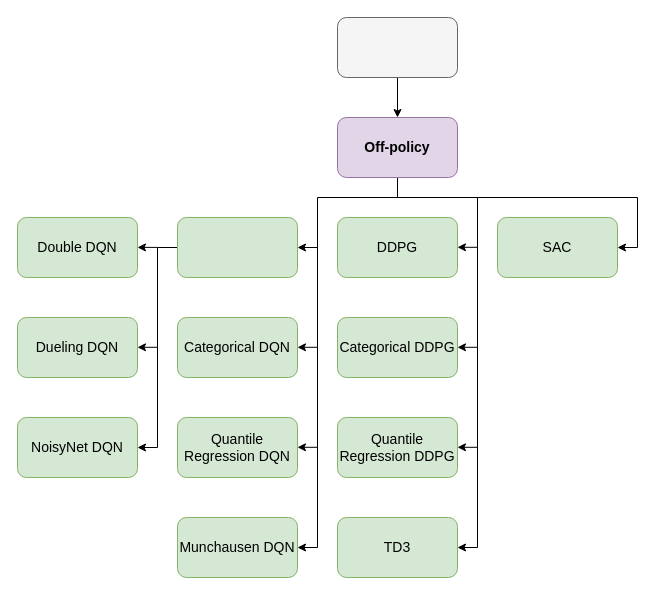
The diagram is 663 pixels wide and 595 high, and some of its shapes have lost their labels. The shapes that lost their labels are listed below. From the top down, each one's box as (x1, y1, x2, y2) in pixels, then its label:
(336, 16, 458, 78): Implemented algorithms
(176, 216, 298, 278): DQN
